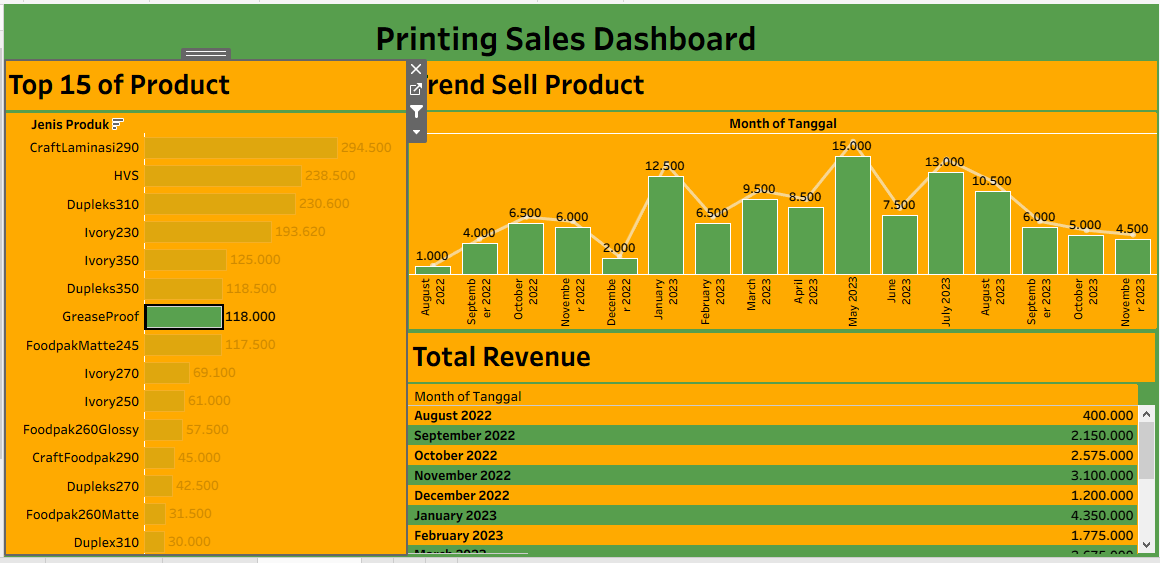

The dashboard page shown, as its layout file describes it:
{"tool":"tableau","page":{"name":"Dashboard 1","canvas":[1000,1000],"units":"permille","ordinal":0},"visuals":[{"type":"text","box":[277.1,19.9,419.1,81.5]},{"type":"worksheet","title":"Top 15 of Product","mark":"Automatic","rows":["jenis_produk"],"cols":["jumlah_order"],"box":[0,103.3,348.1,896.7]},{"type":"worksheet","title":"Trend Sell Product","mark":"Bar","rows":["jumlah_order","jumlah_order"],"cols":["tanggal"],"box":[350.7,103.3,647.6,485.5]},{"type":"worksheet","title":"Total Revenue","mark":"Automatic","rows":["tanggal"],"box":[349.8,596,646.8,400.4]}]}

Visuals, with their boxes on the dashboard's canvas, which has no fixed pixel size, in thousandths of its width and height (x1, y1, x2, y2). These are canvas units, not pixel positions in the 1160x563 screenshot, which may show the page scaled, cropped or inside an application window:
text: box=[277, 20, 696, 101]
"Top 15 of Product" worksheet: box=[0, 103, 348, 1000]
"Trend Sell Product" worksheet (Bar marks): box=[351, 103, 998, 589]
"Total Revenue" worksheet: box=[350, 596, 997, 996]
